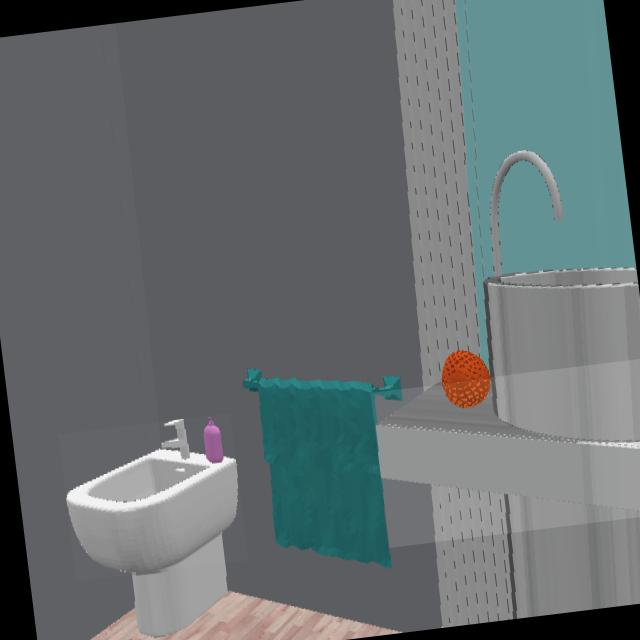shelf: (376, 384, 640, 510)
washbasin: (486, 153, 640, 443), (66, 419, 237, 573)
